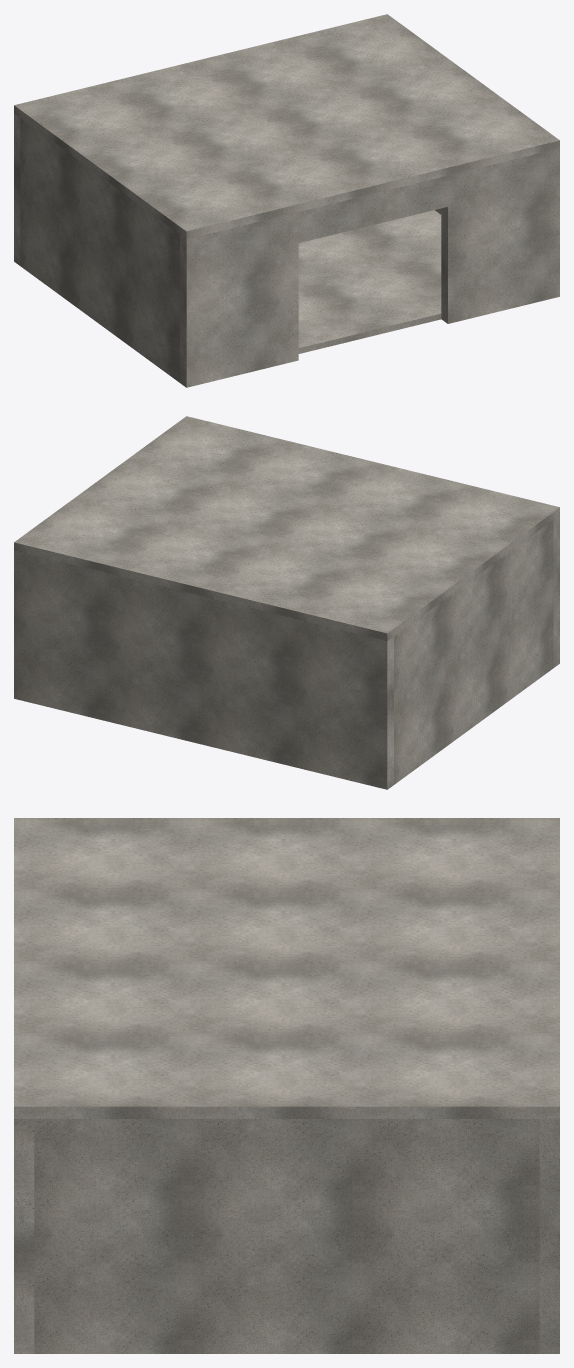
Rendered from garage.glb.
3 views of the same model, one above another, from view 1: azimuth 30°, elevation 25°; view 2: azimuth 150°, elevation 25°; view 3: azimuth 270°, elevation 25° (orthographic). The views are drawn at different scales.
Parts seen in each view (by area): view 1: Garage; view 2: Garage; view 3: Garage.
Part boxes in pixels (<box>): Garage: <box>14,14,559,387</box>; Garage: <box>14,416,559,789</box>; Garage: <box>14,818,559,1353</box>.
Bounding box in the file's own units: 10 × 4 × 8.
1 material, 1 textured.
